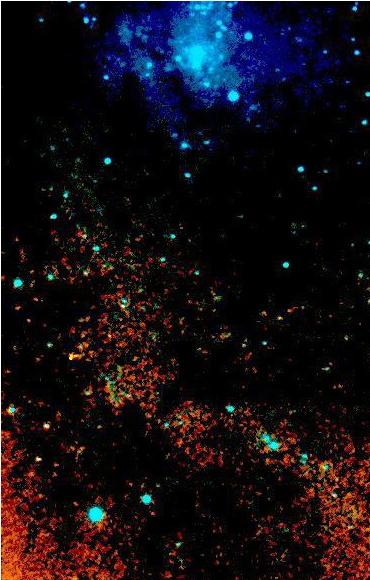star: (58, 341, 88, 371)
